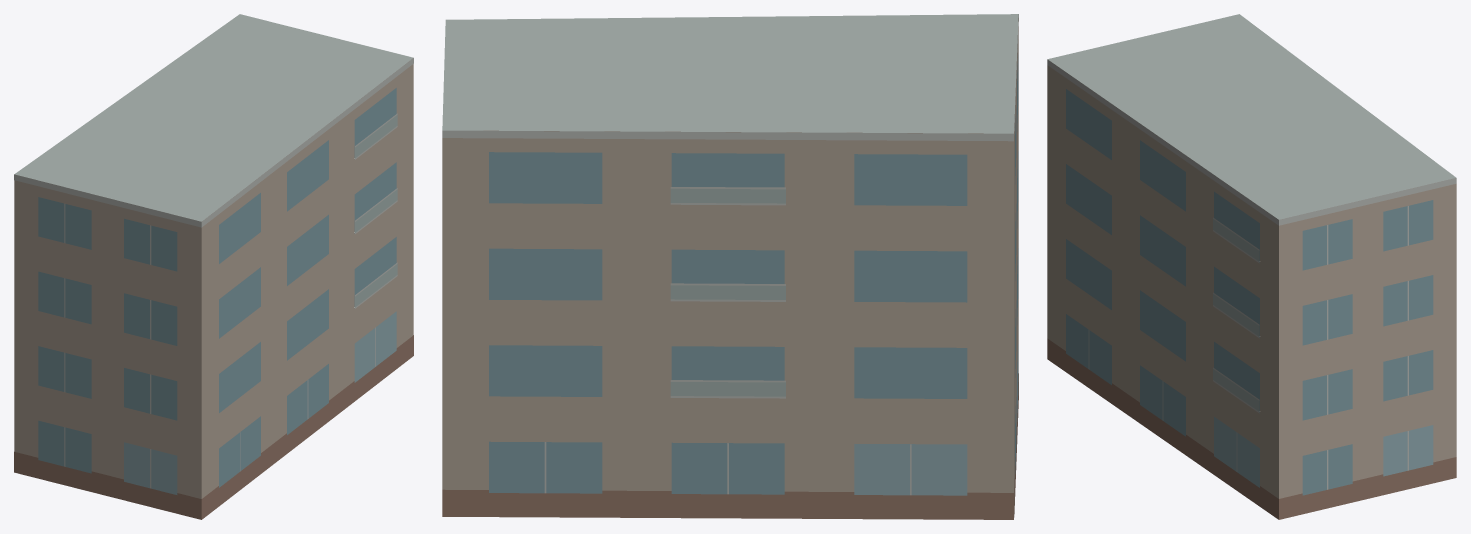
Rendered from survey-upis-32905229.glb.
3 views of the same model, side by side, from view 1: azimuth 30°, elevation 25°; view 2: azimuth 150°, elevation 25°; view 3: azimuth 270°, elevation 25° (orthographic). The views are drawn at different scales.
Visible parts, largest first — view 1: survey-upis-32905229.tmp; view 2: survey-upis-32905229.tmp; view 3: survey-upis-32905229.tmp.
Part boxes in pixels (x1=…): survey-upis-32905229.tmp: x1=14, y1=14, x2=413, y2=519; survey-upis-32905229.tmp: x1=442, y1=14, x2=1018, y2=519; survey-upis-32905229.tmp: x1=1047, y1=14, x2=1456, y2=519.
Size of the model in its own units: 18.33 by 12.45 by 15.4.
